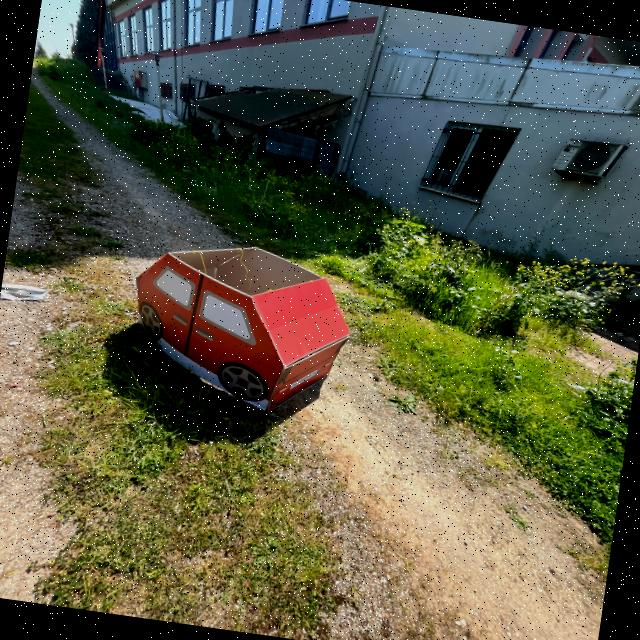red_car: (94, 220, 381, 431)
